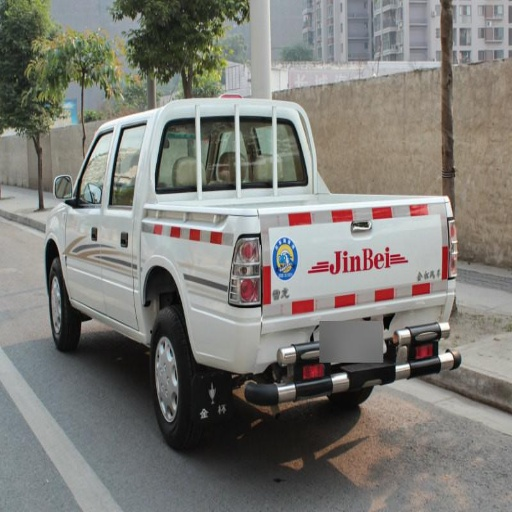trunk: (124, 204, 446, 353)
